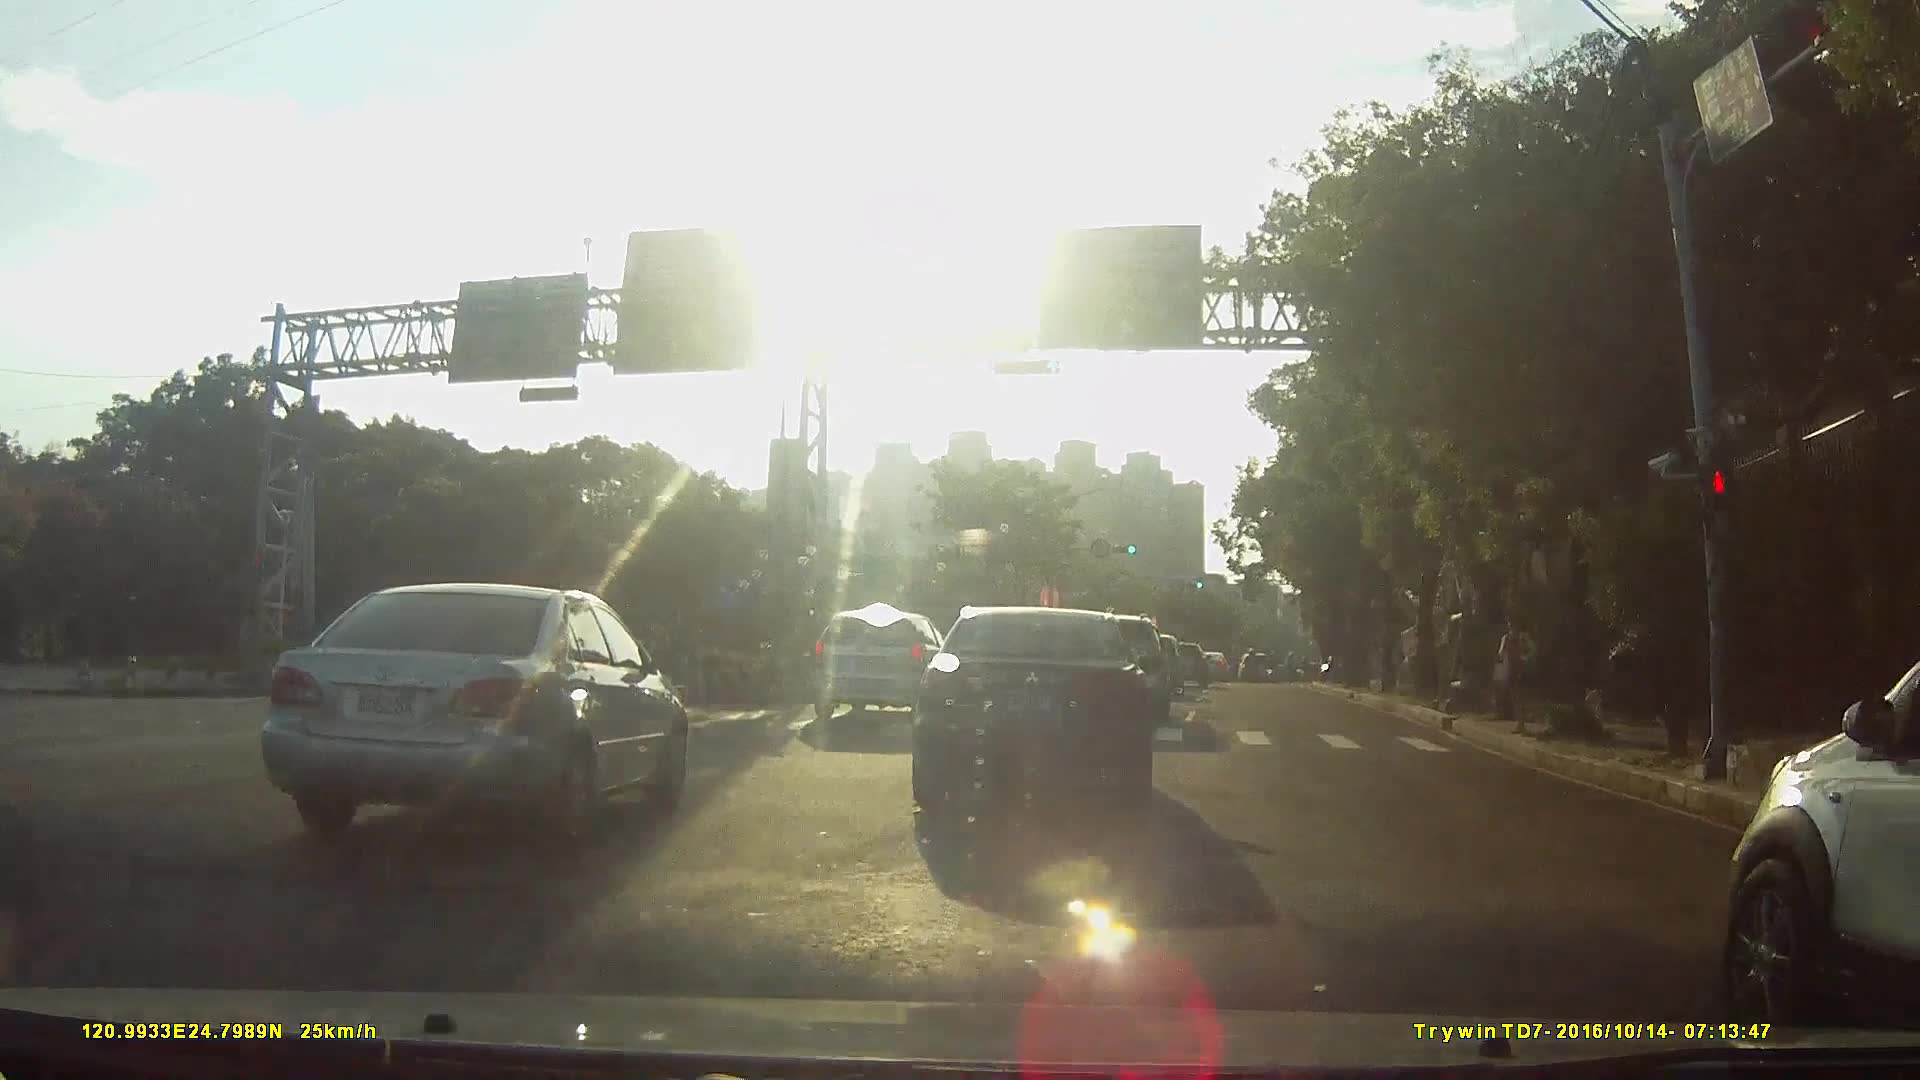pedestrian: (1488, 614, 1543, 729)
vehicle: (234, 577, 688, 851), (1663, 590, 1920, 1035), (890, 606, 1161, 817), (799, 605, 945, 719), (1152, 640, 1200, 688), (1187, 651, 1221, 679)
